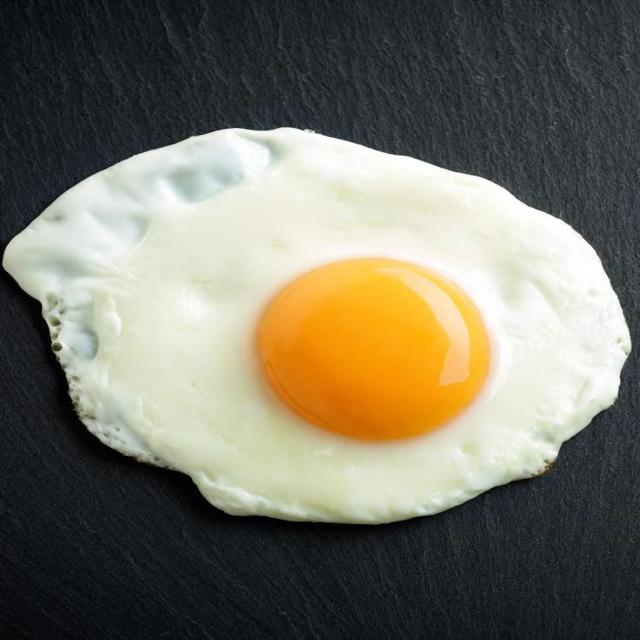fryed egg: (4, 129, 630, 522)
